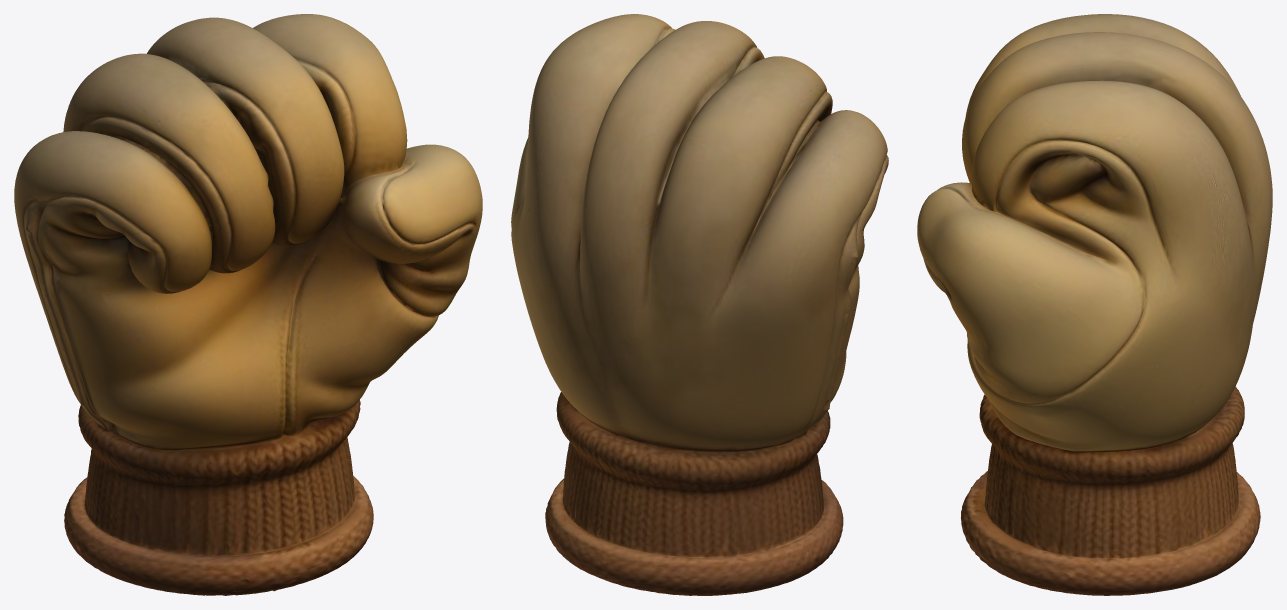
The model's file is vm_hand_r.glb.
3 views of the same model, side by side, from view 1: azimuth 30°, elevation 25°; view 2: azimuth 150°, elevation 25°; view 3: azimuth 270°, elevation 25° (orthographic). The views are drawn at different scales.
Parts seen in each view (by area): view 1: node_0; view 2: node_0; view 3: node_0.
Part boxes in pixels (bbox=[...]): node_0: bbox=[14, 14, 482, 595]; node_0: bbox=[511, 14, 888, 595]; node_0: bbox=[917, 14, 1272, 595].
Bounding box in the file's own units: 0.8351 × 1.05 × 0.668.
Materials: 1 (1 with a texture image).
